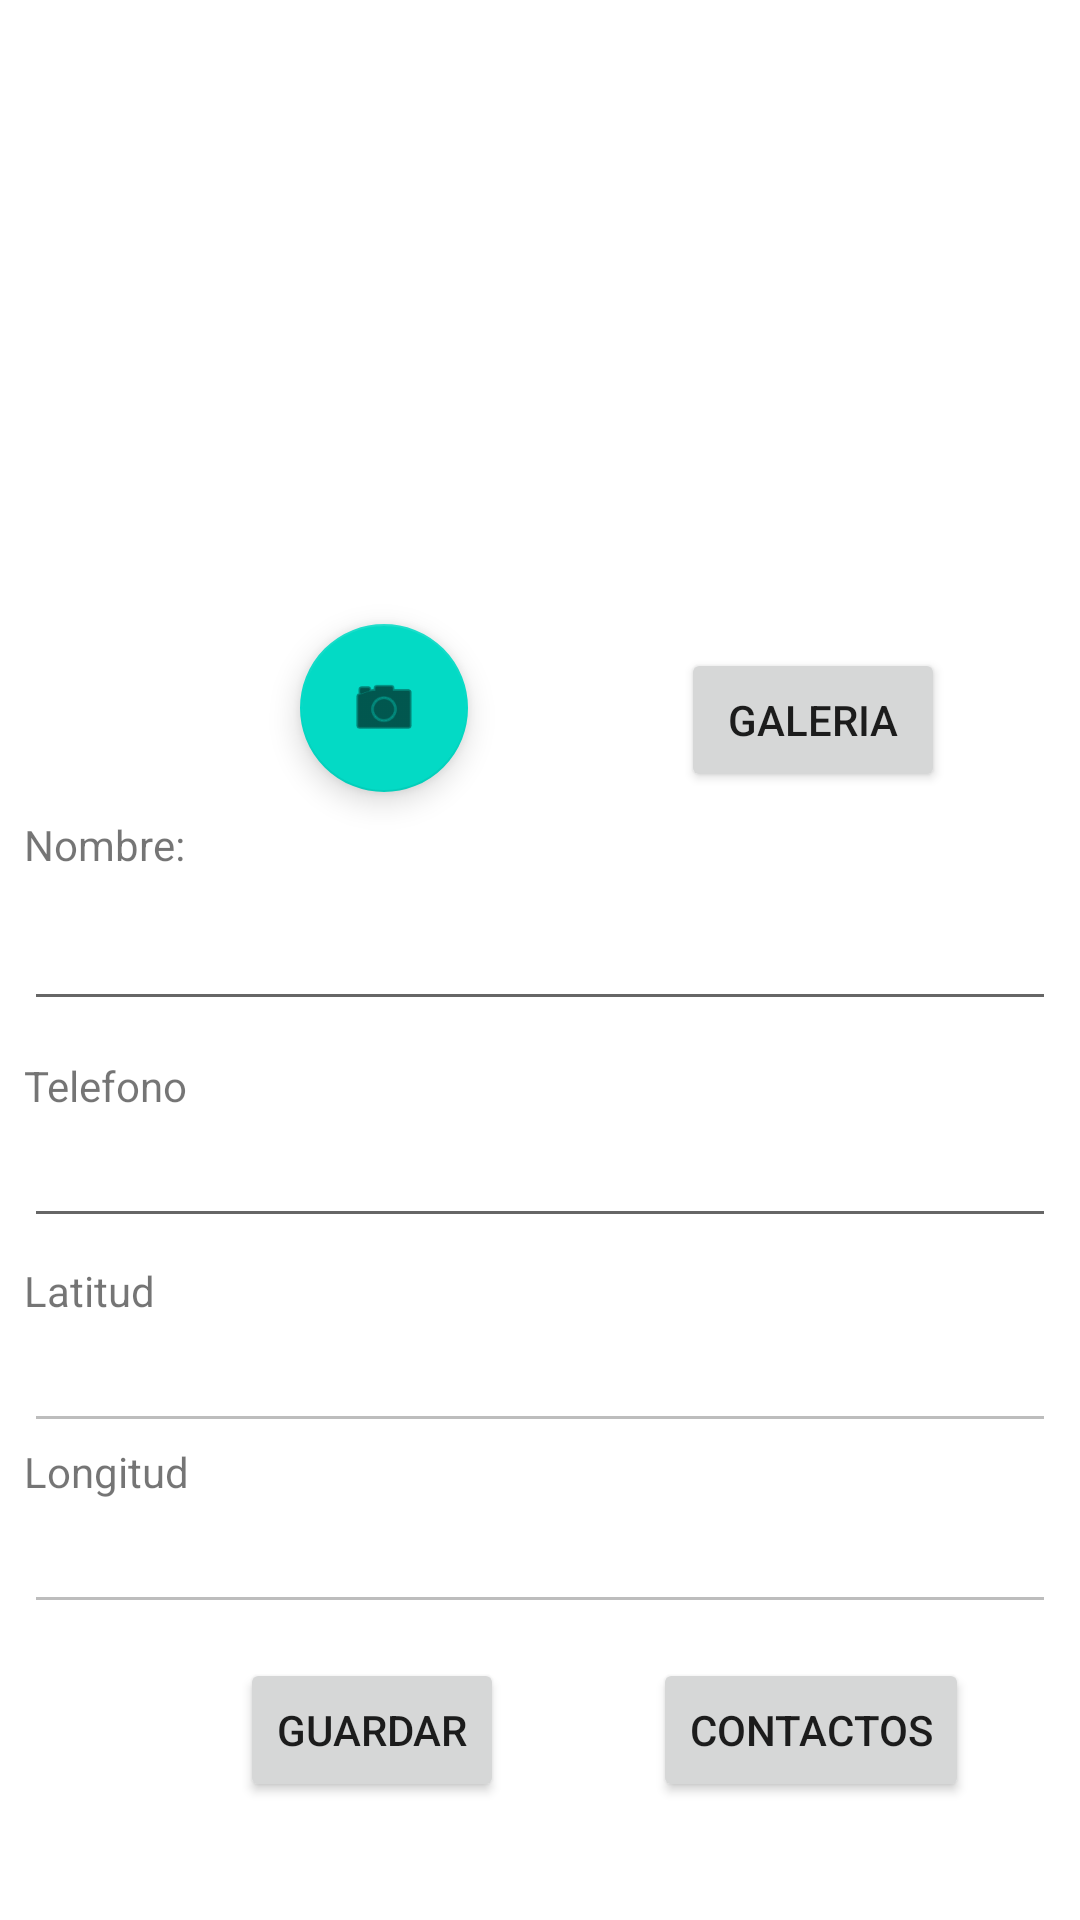

Icons on this 1080*1920 Android screen, each with its box as (x1, y1, x2, y2):
camera: (300, 624, 468, 792)
